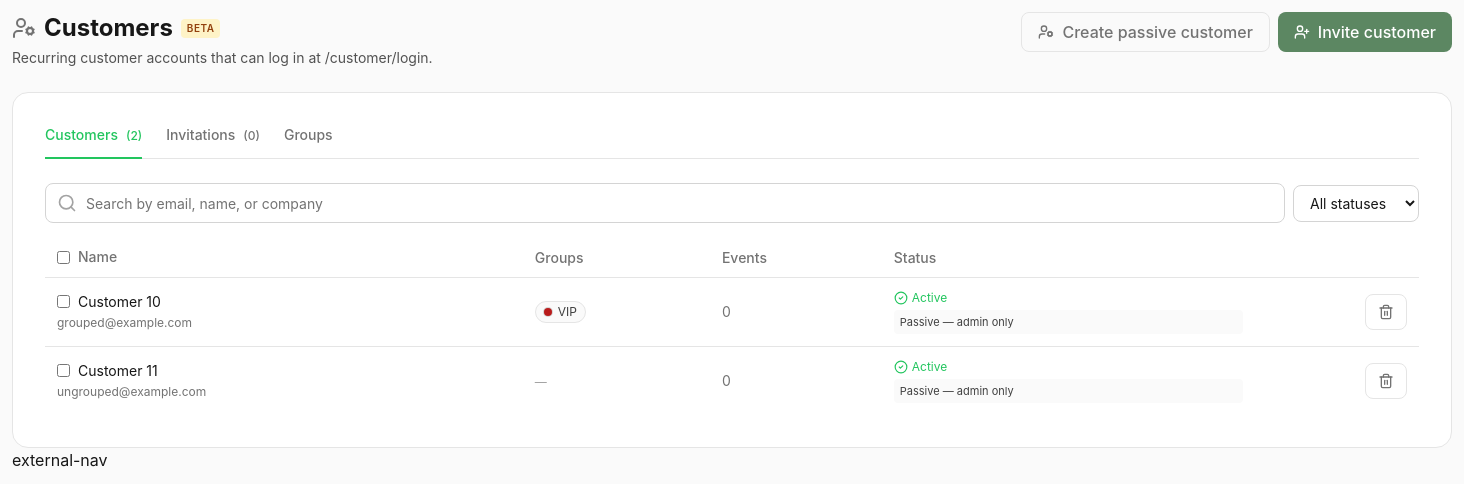
Test case: the catalogue tab › shows an error state when the catalogue cannot be loaded
The width and height of the screenshot is (1464, 484).
Expected: the text "grouped@example.com" is shown, [57,315,192,330]
Click the button "Groups" at {"x": 308, "y": 142}, box [284,125,333,159]
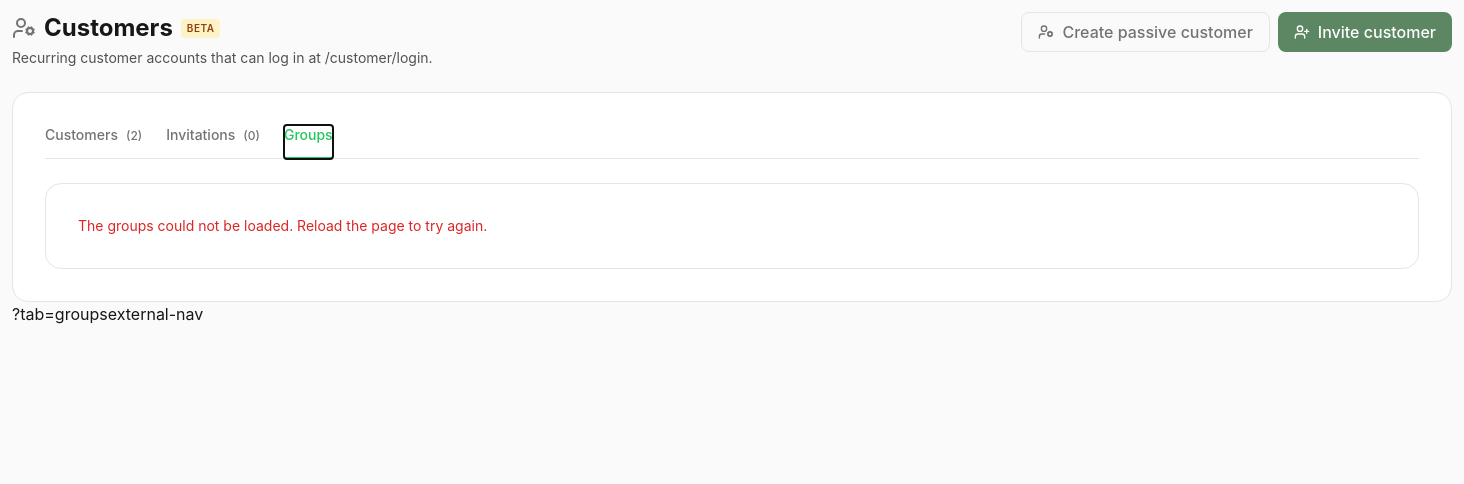
Expected: the text "The groups could not be loaded. Reload the page to try again." is shown, [78,217,487,234]
